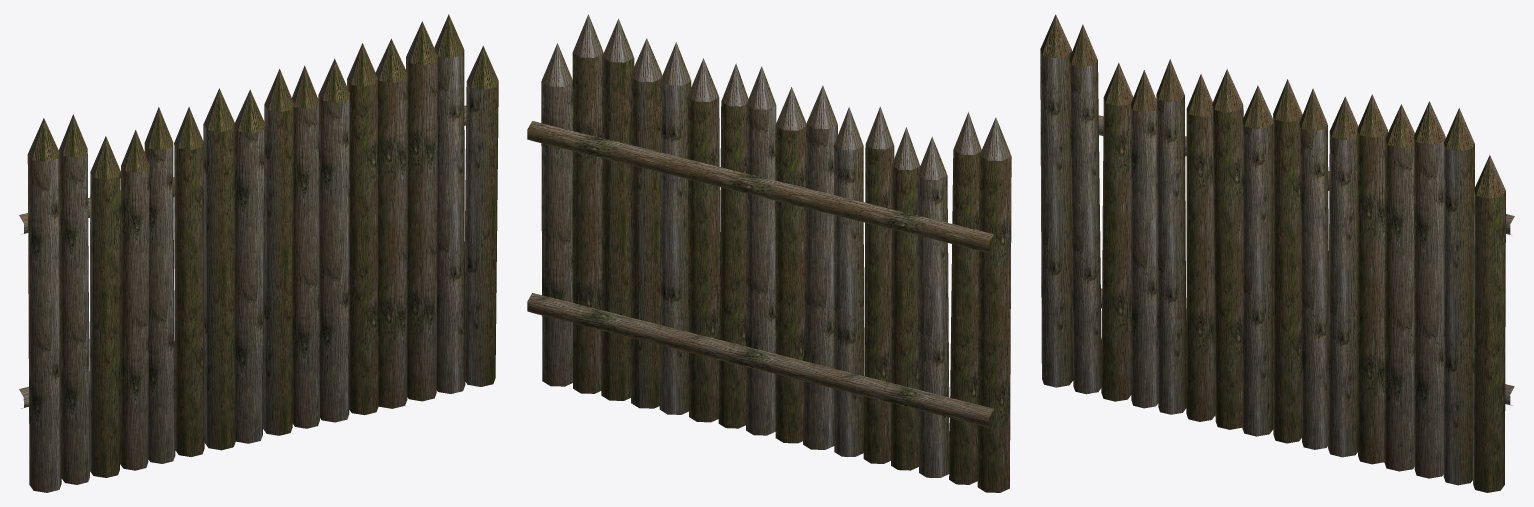
File: lg-palisade.glb
The picture shows the model from 3 angles, left to right: view 1: azimuth 30°, elevation 25°; view 2: azimuth 150°, elevation 25°; view 3: azimuth 330°, elevation 25°; orthographic projection.
Visible parts, largest first — view 1: lg-palisade; view 2: lg-palisade; view 3: lg-palisade.
Boxes of the visible parts, x1,y1,x2,y2 form: lg-palisade: (19, 14, 498, 492); lg-palisade: (527, 14, 1011, 492); lg-palisade: (1040, 14, 1514, 492).
Size of the model in its own units: 3.64 by 2.8 by 0.3618.
Materials: 1 (1 with a texture image).
